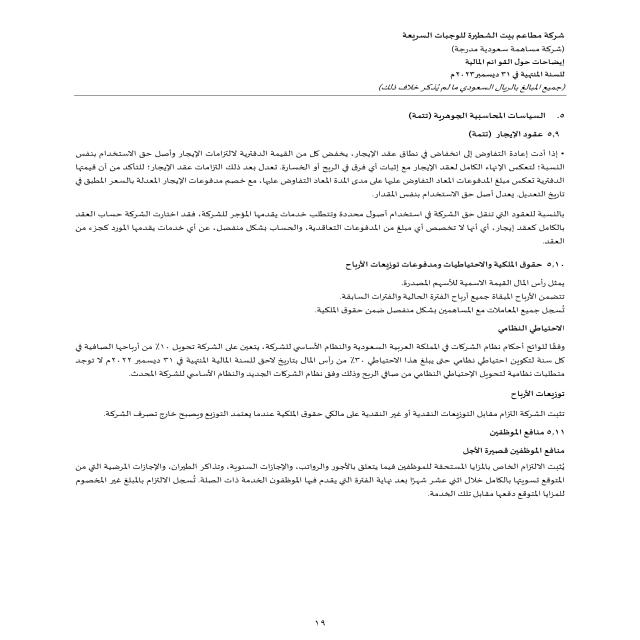notes: (452, 55, 575, 69)
text: (41, 106, 576, 517)
